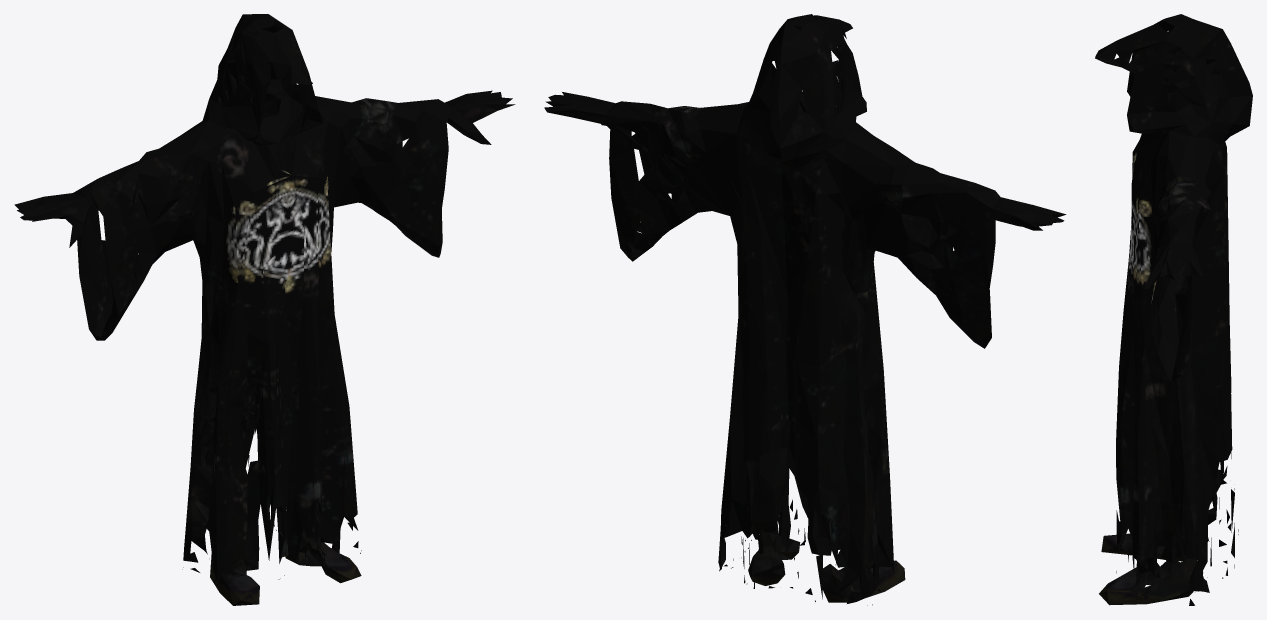
The model's file is cultist.gltf.
3 views of the same model, side by side, from view 1: azimuth 30°, elevation 25°; view 2: azimuth 150°, elevation 25°; view 3: azimuth 270°, elevation 25° (orthographic). The views are drawn at different scales.
Parts seen in each view (by area): view 1: cultist; view 2: cultist; view 3: cultist.
Part boxes in pixels (bbox=[...]): cultist: bbox=[14, 14, 515, 605]; cultist: bbox=[544, 14, 1066, 605]; cultist: bbox=[1095, 14, 1252, 605].
Size of the model in its own units: 0.9438 by 1 by 0.2573.
Materials: 1 (1 with a texture image).
